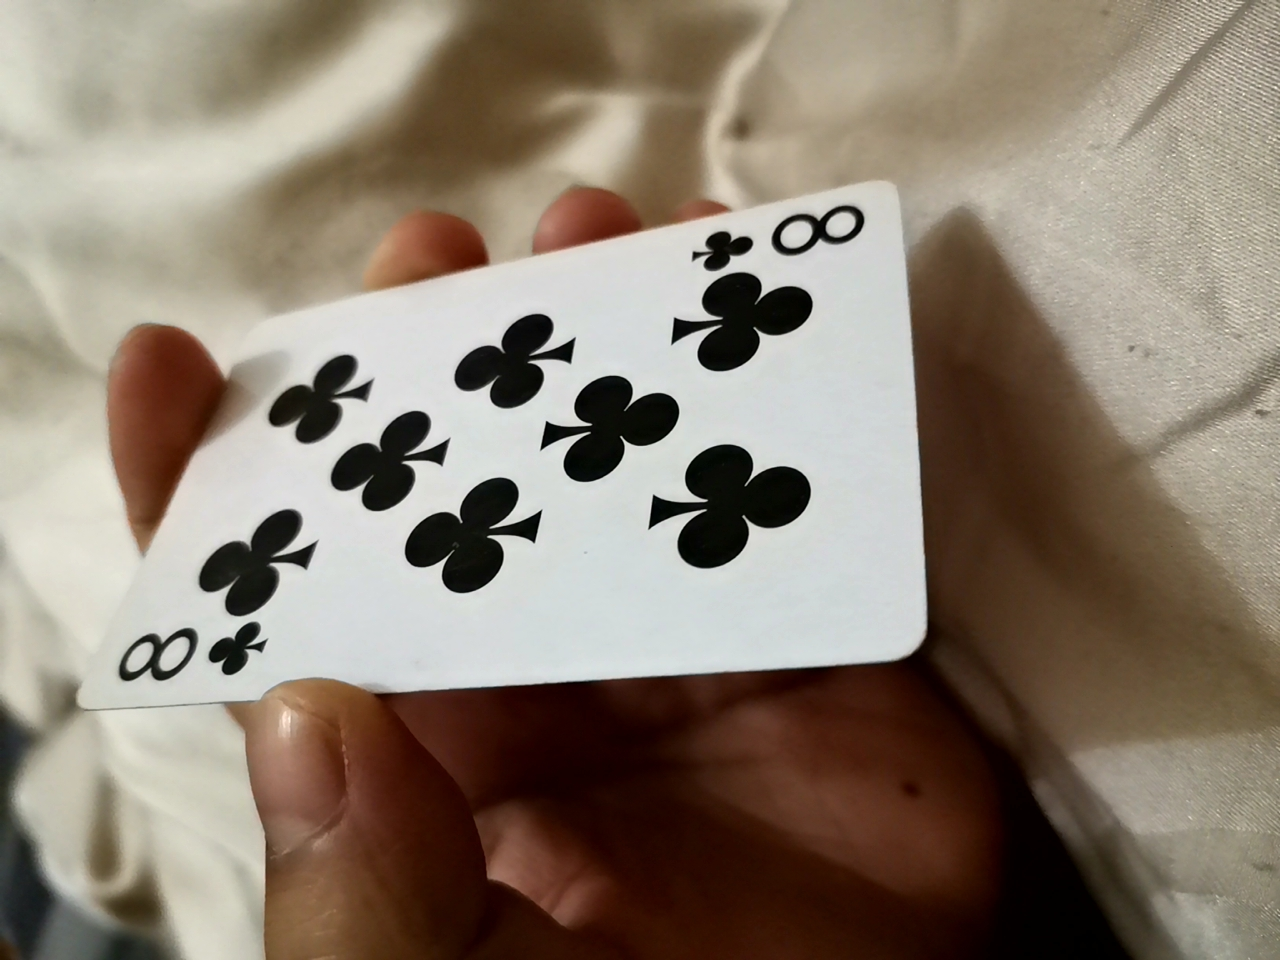mh 8: (63, 192, 925, 712)
